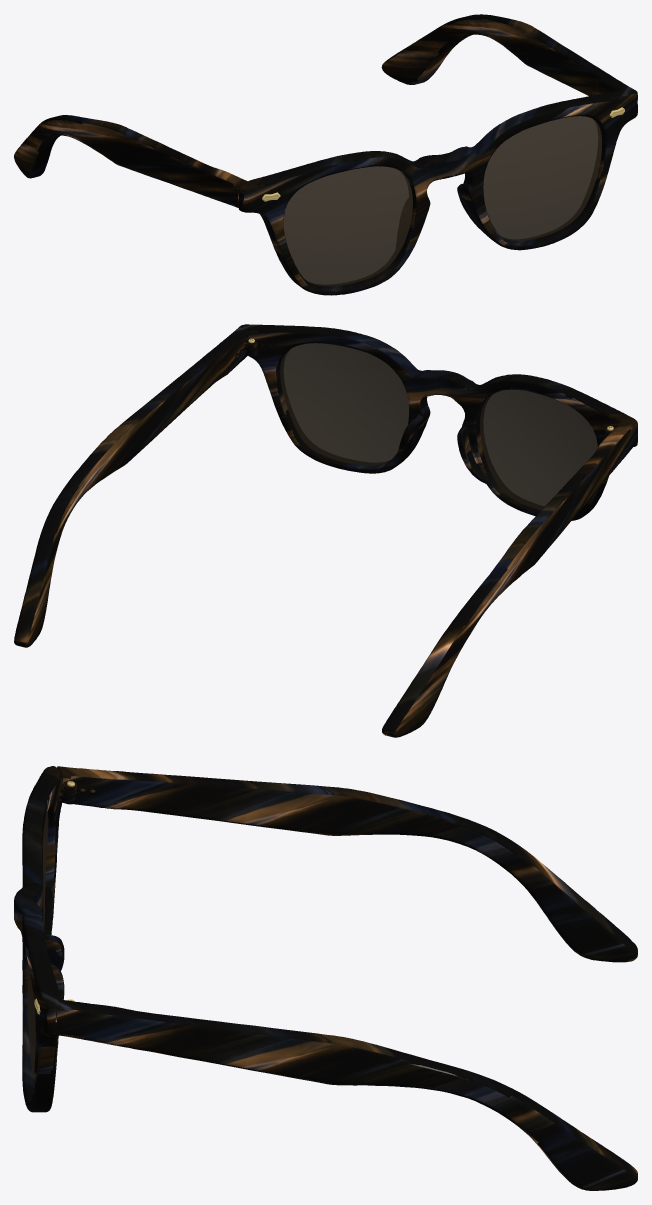
Rendered from Glasses_draco.glb.
The picture shows the model from 3 angles, top to bottom: view 1: azimuth 30°, elevation 25°; view 2: azimuth 150°, elevation 25°; view 3: azimuth 270°, elevation 25°; orthographic projection. The views are drawn at different scales.
Visible parts, largest first — view 1: Frame, glass; view 2: Frame, glass; view 3: Frame, glass.
Part boxes in pixels (x1,y1,x2,y2): Frame: (14,14,637,295); glass: (283,116,601,286); Frame: (14,324,637,737); glass: (280,343,597,510); Frame: (14,766,637,1190); glass: (27,812,48,1080).
Size of the model in its own units: 1.49 by 0.5382 by 1.52.
3 materials, 1 textured.
